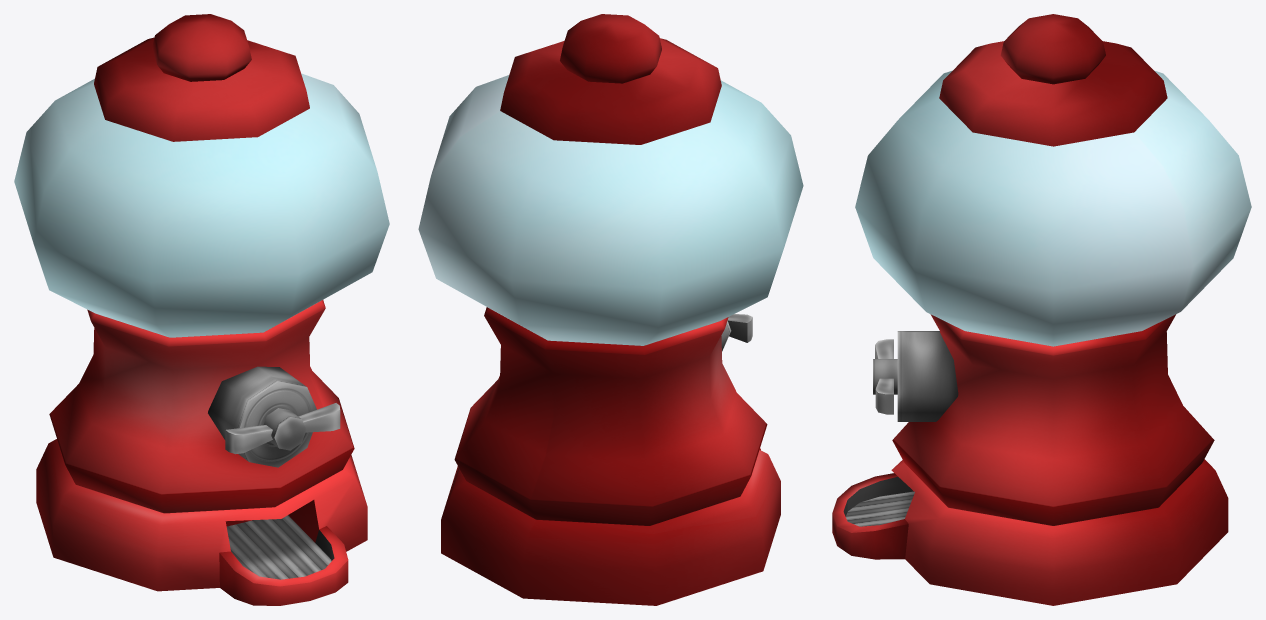
Rendered from GumballMachine.fbx.
3 renders of one model, left to right at view 1: azimuth 30°, elevation 25°; view 2: azimuth 150°, elevation 25°; view 3: azimuth 270°, elevation 25°, orthographic. The views are drawn at different scales.
Parts seen in each view (by area): view 1: main_base; view 2: main_base; view 3: main_base.
Boxes of the visible parts, x1,y1,x2,y2 form: main_base: [14, 14, 389, 605]; main_base: [418, 14, 803, 605]; main_base: [832, 14, 1251, 605].
Bounding box in the file's own units: 152 × 215 × 161.
